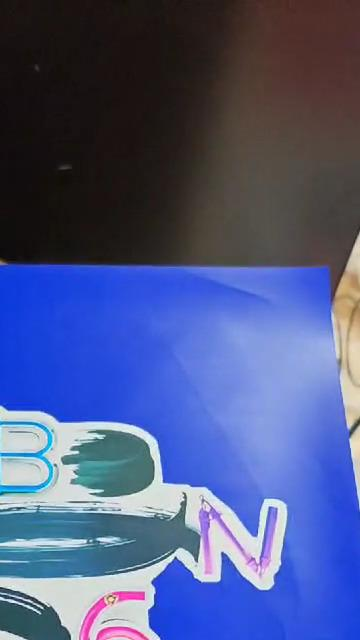B_R1: (0, 407, 296, 640)
